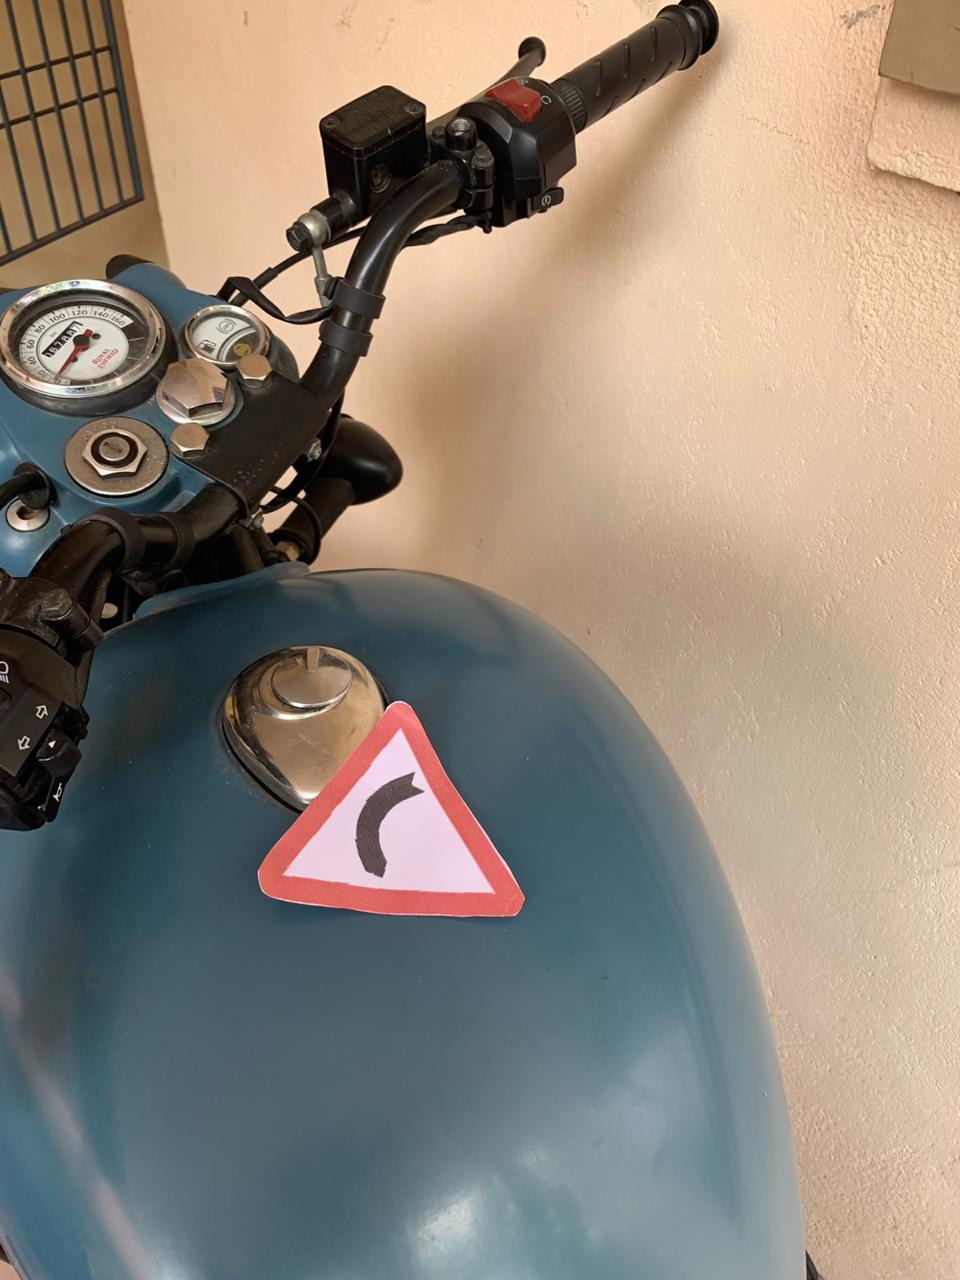LEFT CURVE: (255, 677, 597, 929)
